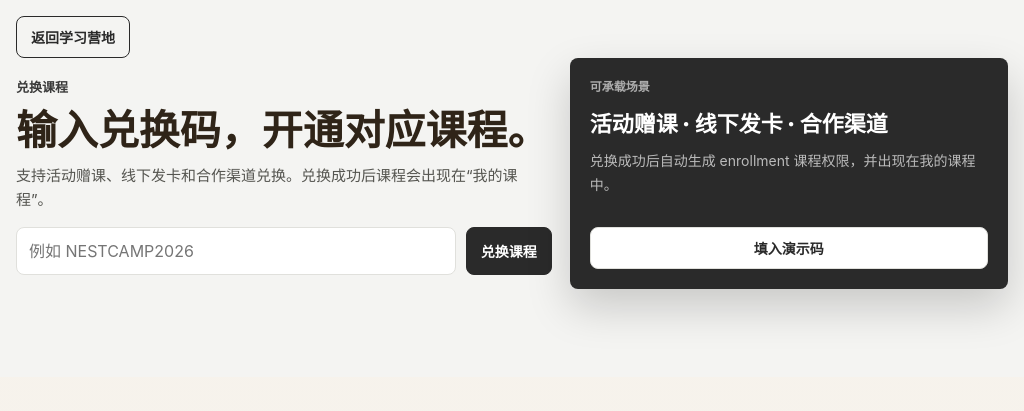
it: AppPageContent › submits a Nest Camp redeem code for logged-in users
Type "NESTCAMP2026" into the field with placeholder "例如 NESTCAMP2026" at [236, 251], box [16,227,456,275]
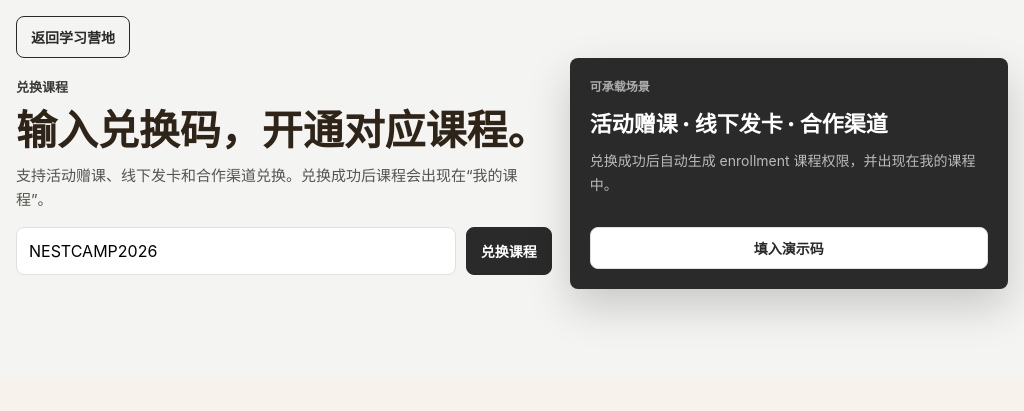
Click the button "兑换课程" at [509, 251], box [466,227,552,275]
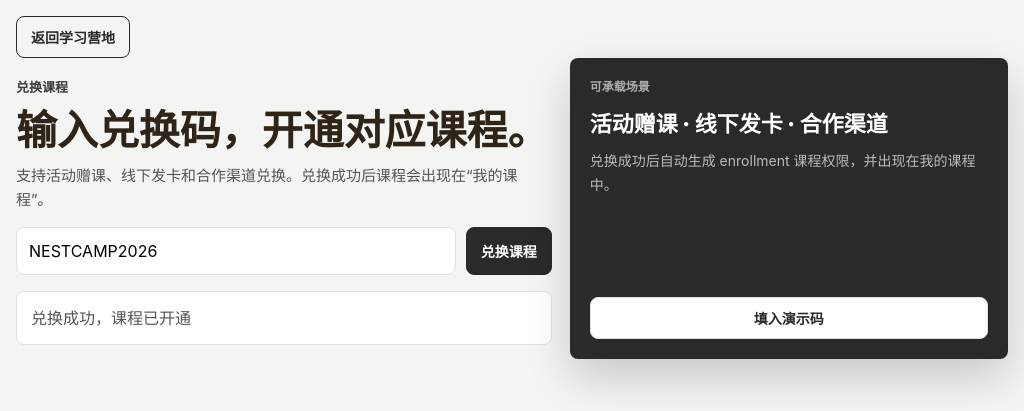
Expected: the text "兑换成功，课程已开通" is shown, [16,291,552,345]
